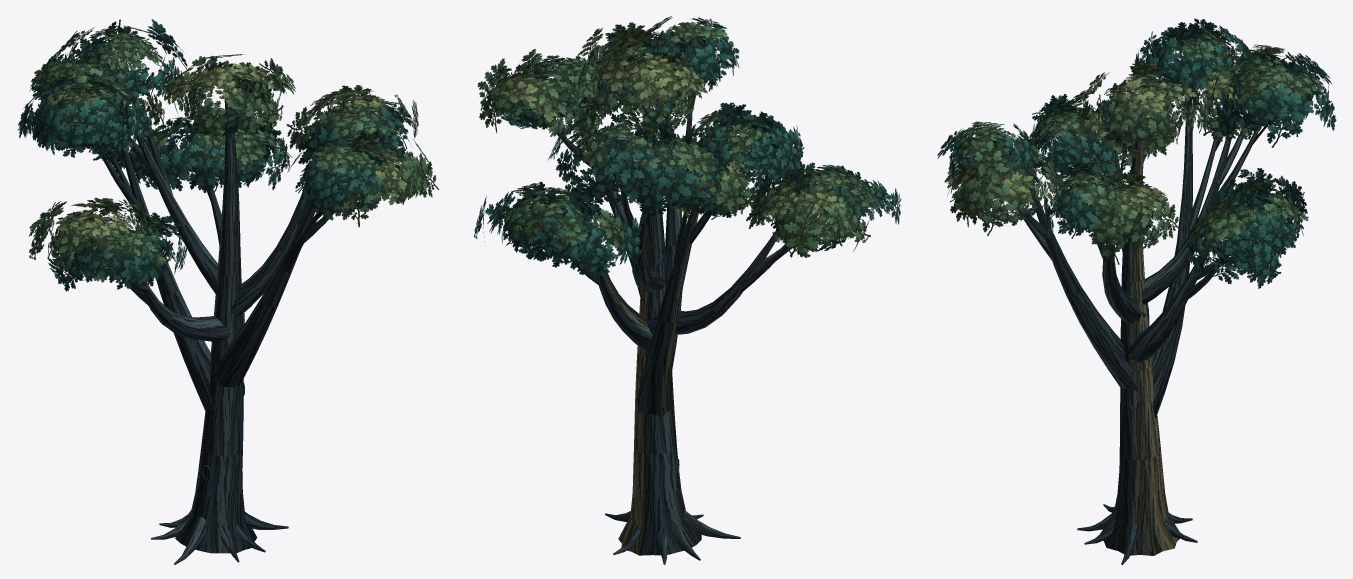
Rendered from canopy_oak.glb.
3 renders of one model, left to right at view 1: azimuth 30°, elevation 25°; view 2: azimuth 150°, elevation 25°; view 3: azimuth 270°, elevation 25°, orthographic. The views are drawn at different scales.
Visible parts, largest first — view 1: canopy_oak; view 2: canopy_oak; view 3: canopy_oak.
Part boxes in pixels (x1=…): canopy_oak: x1=17, y1=19, x2=438, y2=564; canopy_oak: x1=474, y1=16, x2=901, y2=564; canopy_oak: x1=937, y1=18, x2=1336, y2=564.
Bounding box in the file's own units: 10.23 × 12 × 9.41.
Materials: 2 (2 with a texture image).
